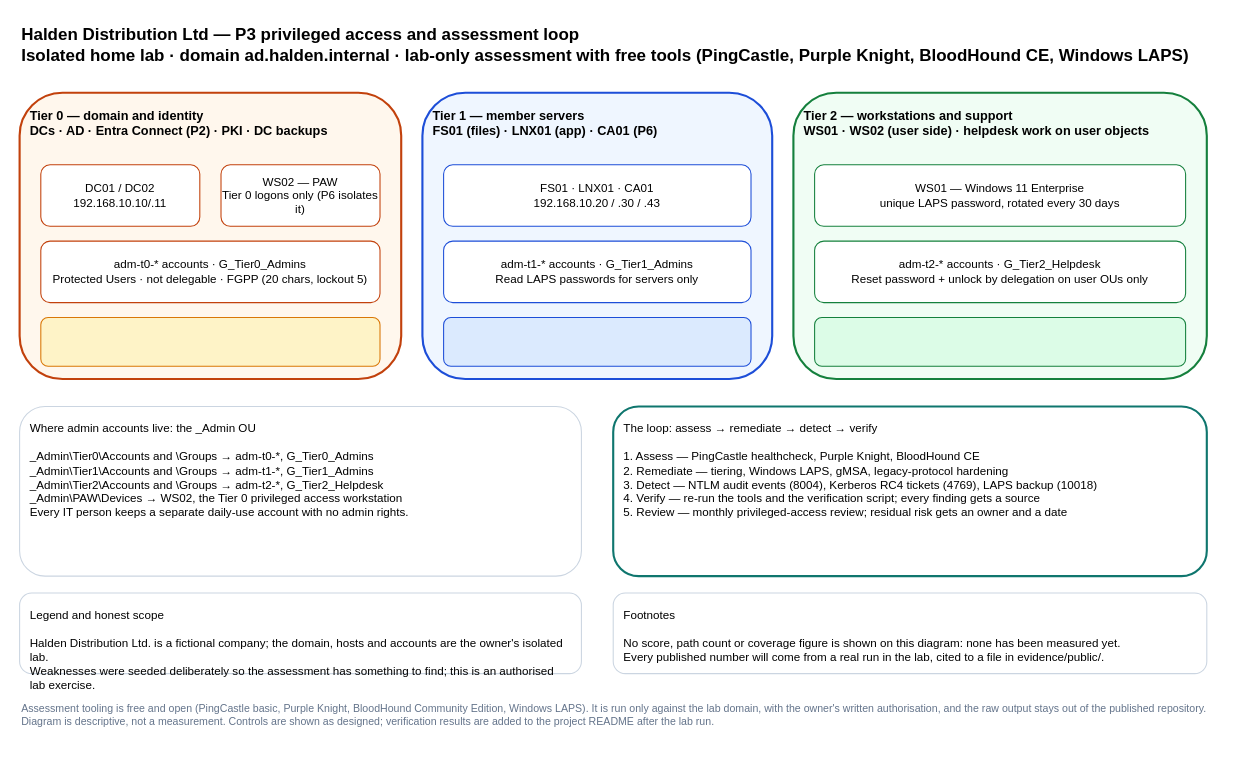
Image size: 1235x759. Some labels were removed from this diagram. The shapes that lost their labels are listed below. From the top down, each one's centre as x and y in pixels, then its label:
At [210,341]: "Deny logon to Tier 1 servers and every workstation".
At [597,341]: "Deny logon to DCs and workstations".
At [1000,341]: "Deny logon to DCs and member servers".
